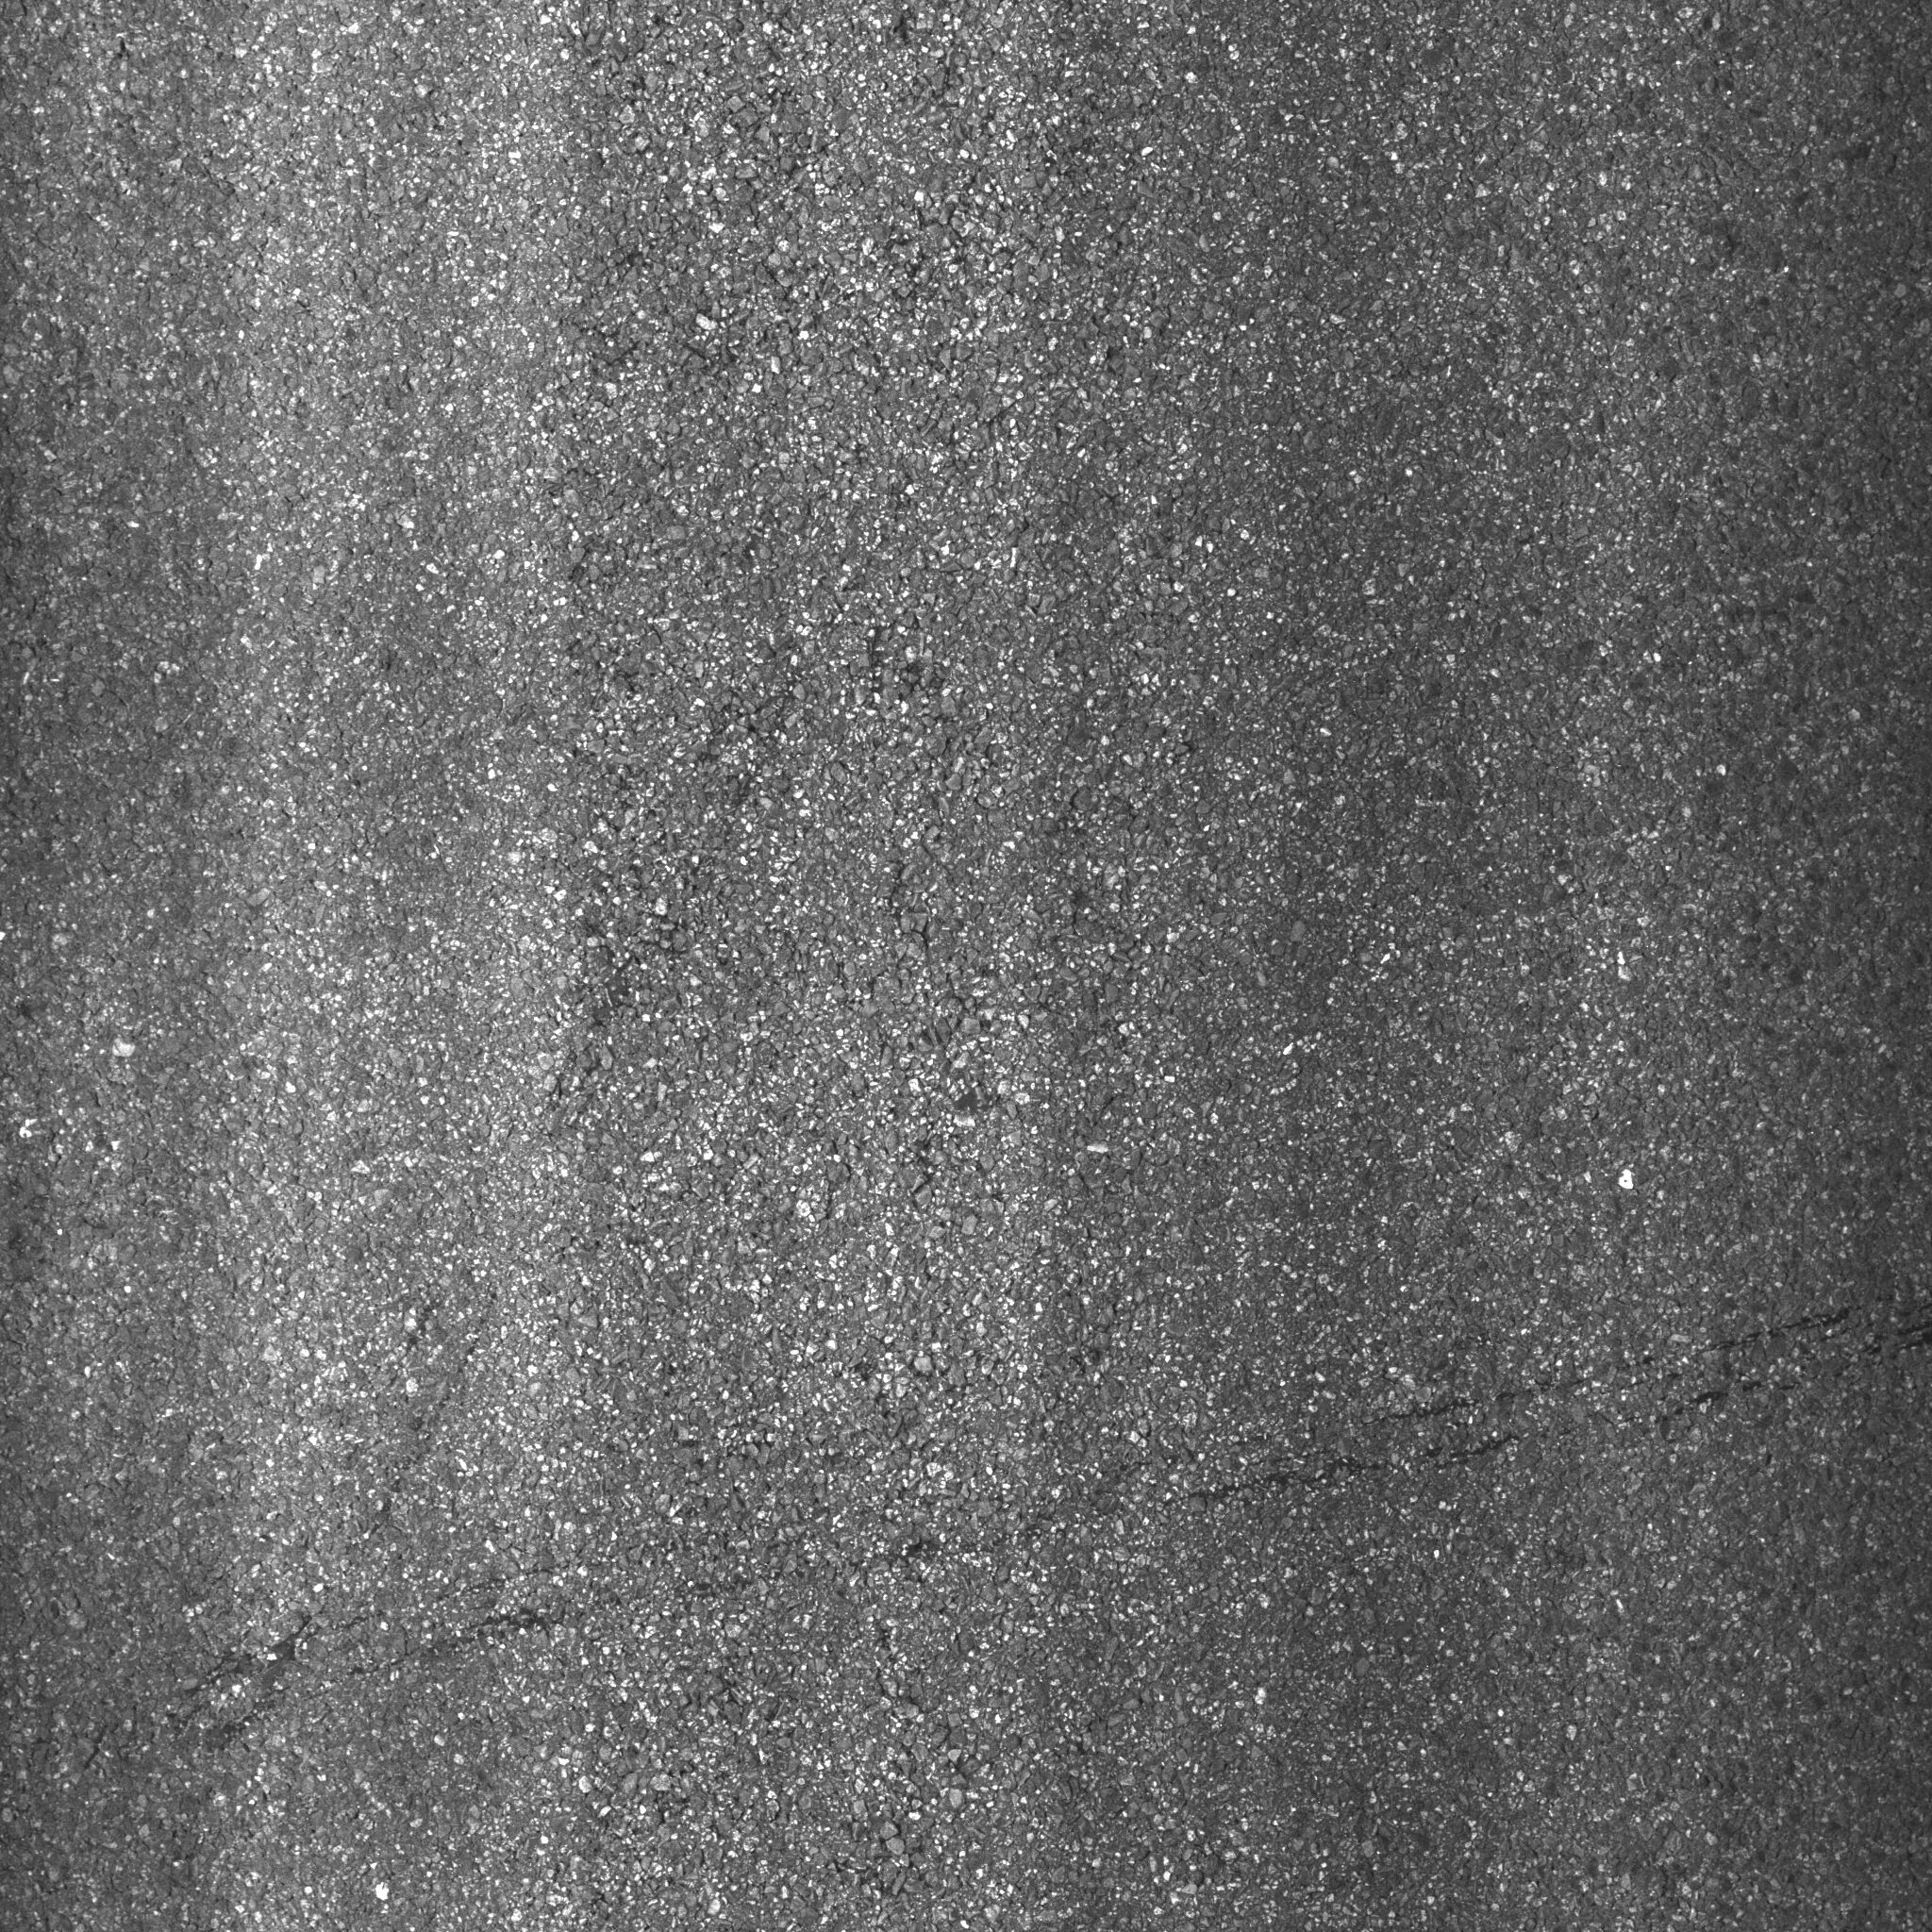transeverse: (97, 1281, 1932, 1752)
